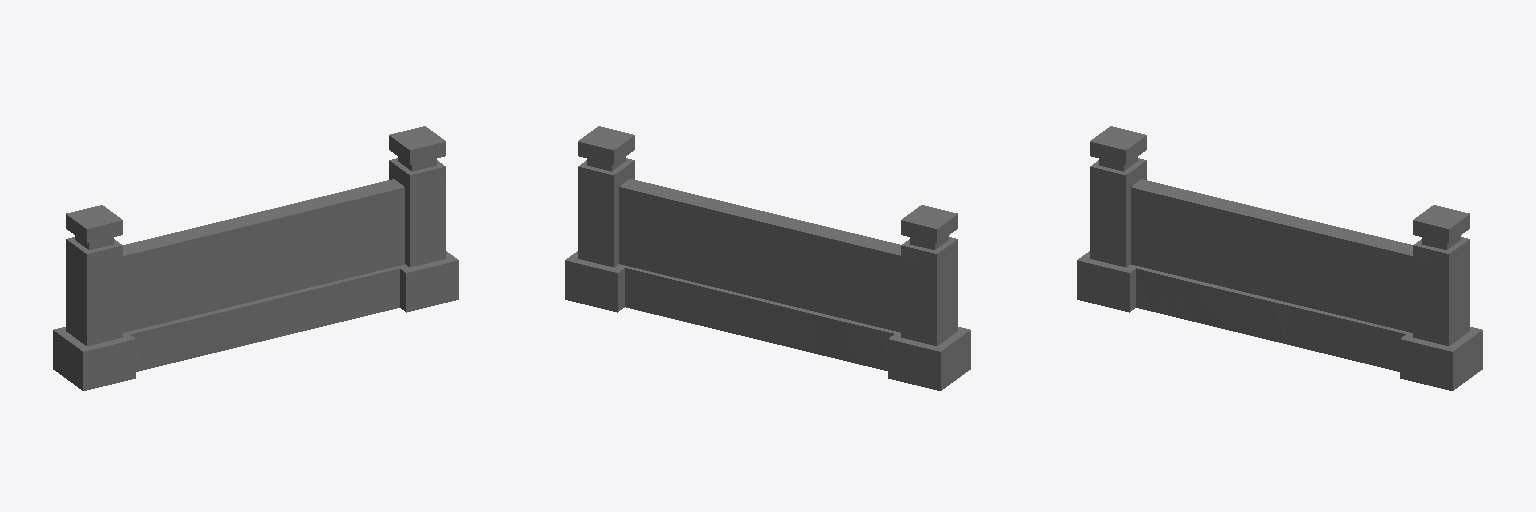
The model's file is ruinwall_02.obj.
3 renders of one model, left to right at view 1: azimuth 30°, elevation 25°; view 2: azimuth 150°, elevation 25°; view 3: azimuth 330°, elevation 25°, orthographic.
Visible parts, largest first — view 1: polySurface2; view 2: polySurface2; view 3: polySurface2.
Boxes of the visible parts, x1,y1,x2,y2 form: polySurface2: [53, 126, 458, 390]; polySurface2: [565, 126, 970, 390]; polySurface2: [1077, 126, 1482, 390].
Size of the model in its own units: 7.13 by 2.84 by 1.